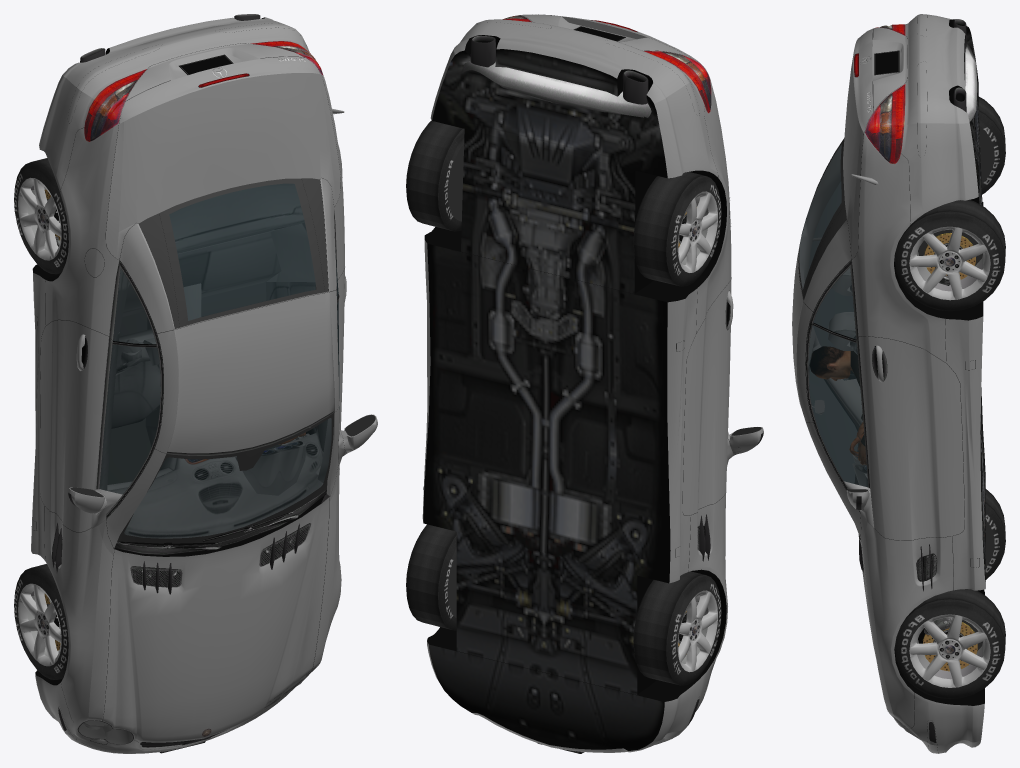
3 views of the same model, side by side, from view 1: azimuth 30°, elevation 25°; view 2: azimuth 150°, elevation 25°; view 3: azimuth 270°, elevation 25° (orthographic). The views are drawn at different scales.
Parts seen in each view (by area): view 1: Base, Body, Hood, Interior, TireFR, TireRR, BLightR, MirrorR, MirrorL, HLightR, HLightRG; view 2: Body, TireRR, TireFR, TireRL, TireFL, Base, BLightR, MirrorR; view 3: Body, Base, TireRL, TireFL, Interior, BLightL, TireRR, Driver, TireFR, MirrorL, BrakeFL, BrakeRL.
Boxes of the visible parts, box(x1,y1,x2,y2) form: Base: box(96, 44, 340, 556); Body: box(31, 14, 346, 753); Hood: box(101, 497, 329, 742); Interior: box(99, 184, 338, 547); TireFR: box(14, 564, 68, 679); TireRR: box(14, 158, 68, 274); BLightR: box(84, 69, 146, 141); MirrorR: box(68, 487, 122, 528); MirrorL: box(338, 414, 377, 465); HLightR: box(77, 720, 133, 744); HLightRG: box(78, 720, 132, 743); Body: box(422, 14, 738, 752); TireRR: box(633, 172, 721, 286); TireFR: box(633, 571, 721, 685); TireRL: box(406, 120, 464, 231); TireFL: box(406, 524, 456, 630); Base: box(520, 14, 708, 73); BLightR: box(644, 51, 711, 113); MirrorR: box(727, 427, 763, 466); Body: box(798, 14, 985, 753); Base: box(792, 27, 905, 545); TireRL: box(895, 200, 1005, 311); TireFL: box(895, 589, 1005, 699); Interior: box(799, 145, 867, 486); BLightL: box(865, 84, 905, 163); TireRR: box(978, 96, 1005, 194); Driver: box(810, 346, 866, 464); TireFR: box(985, 489, 1005, 579); MirrorL: box(844, 481, 873, 527); BrakeFL: box(922, 617, 977, 671); BrakeRL: box(924, 232, 976, 285).
Size of the model in its own units: 2.04 by 4.54 by 1.29.
